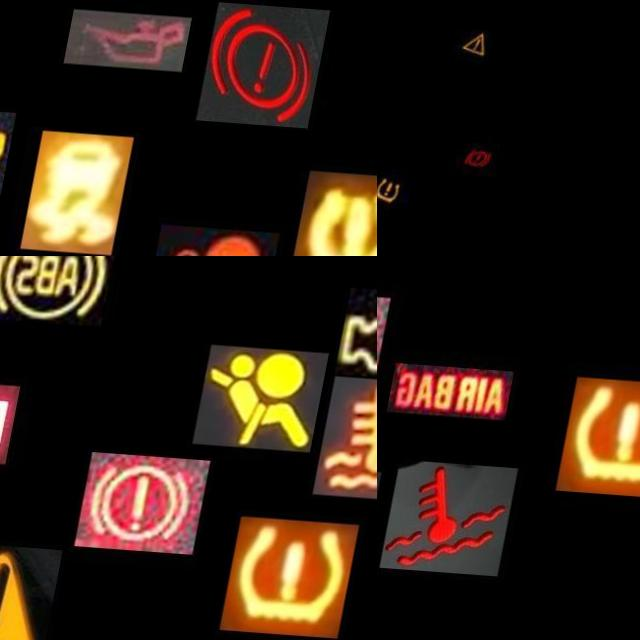Central Warning lamp: (0, 539, 79, 640)
Engine cooling system: (391, 456, 526, 570), (326, 368, 377, 493)
